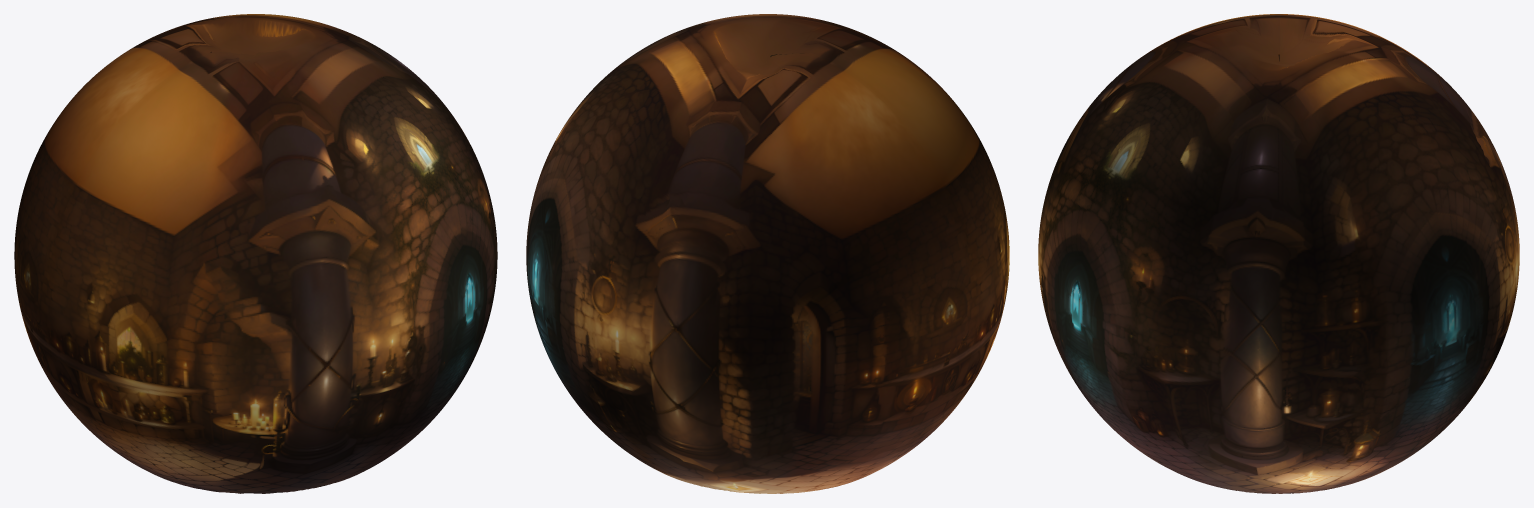
File: ariandes_hideaway_-_magical_skybox.glb
3 views of the same model, side by side, from view 1: azimuth 30°, elevation 25°; view 2: azimuth 150°, elevation 25°; view 3: azimuth 270°, elevation 25° (orthographic).
Parts seen in each view (by area): view 1: skybox_mesh_0; view 2: skybox_mesh_0; view 3: skybox_mesh_0.
Part boxes in pixels (<box>): skybox_mesh_0: <box>14,14,497,493</box>; skybox_mesh_0: <box>526,14,1009,493</box>; skybox_mesh_0: <box>1038,14,1519,493</box>.
Bounding box in the file's own units: 10.37 × 9.67 × 10.37.
1 material, 1 textured.
